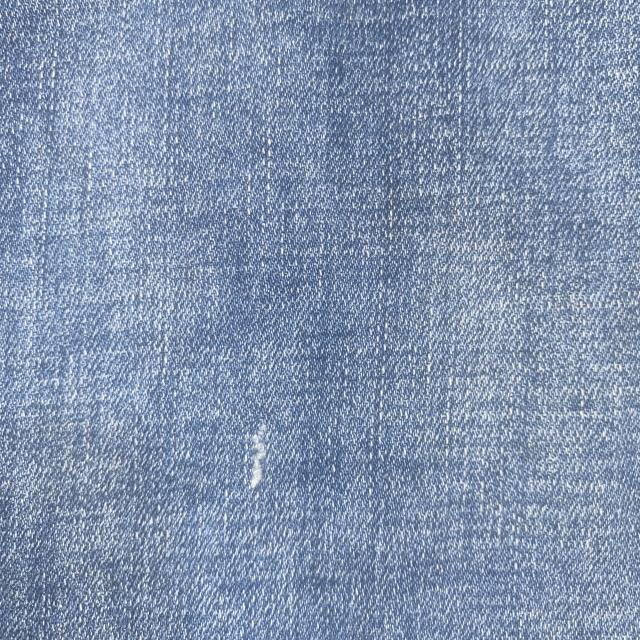Knot: (250, 424, 267, 490)
